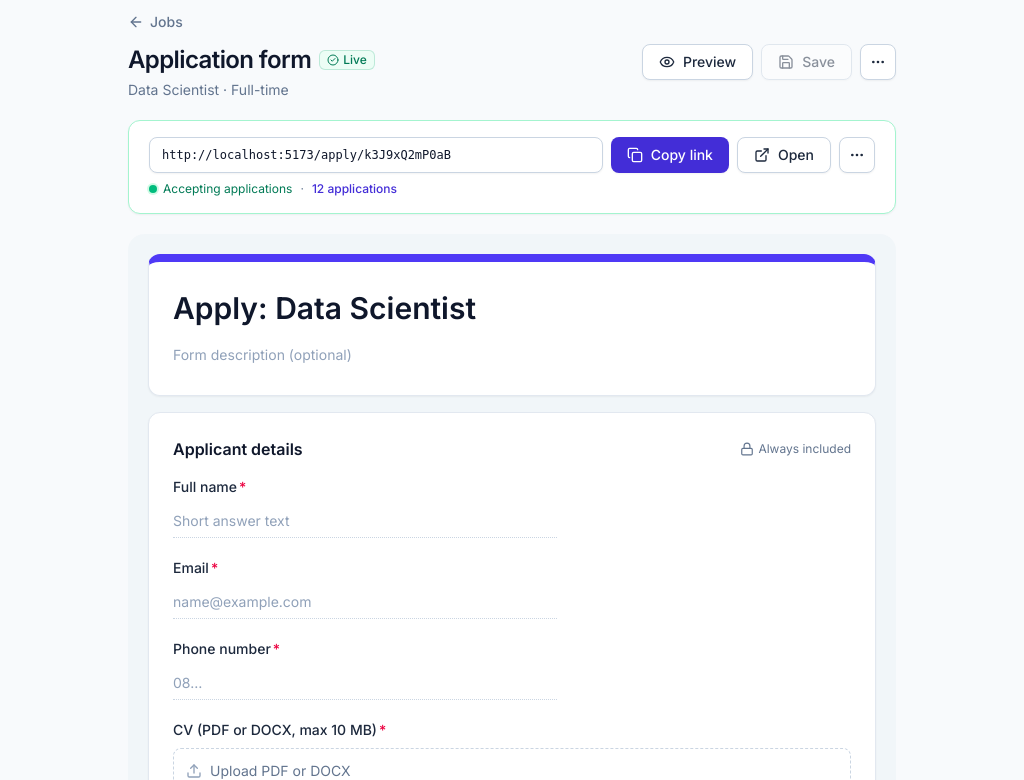
Test: FormBuilderPage › surfaces the backend's validation message
The image size is (1024, 780).
Step 1. Type "!" into the field named "Form title" → {"x": 512, "y": 309}, box left=173, top=286, right=851, bottom=332
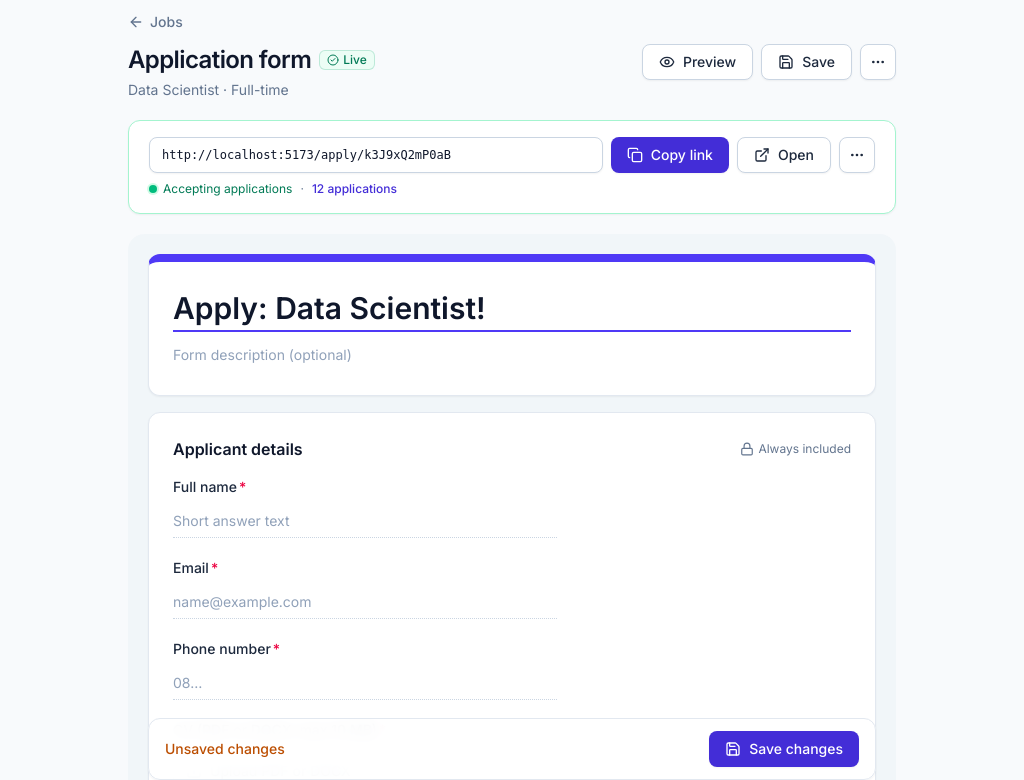
Step 2. Click the button "Save" → {"x": 807, "y": 62}, box left=761, top=44, right=852, bottom=80
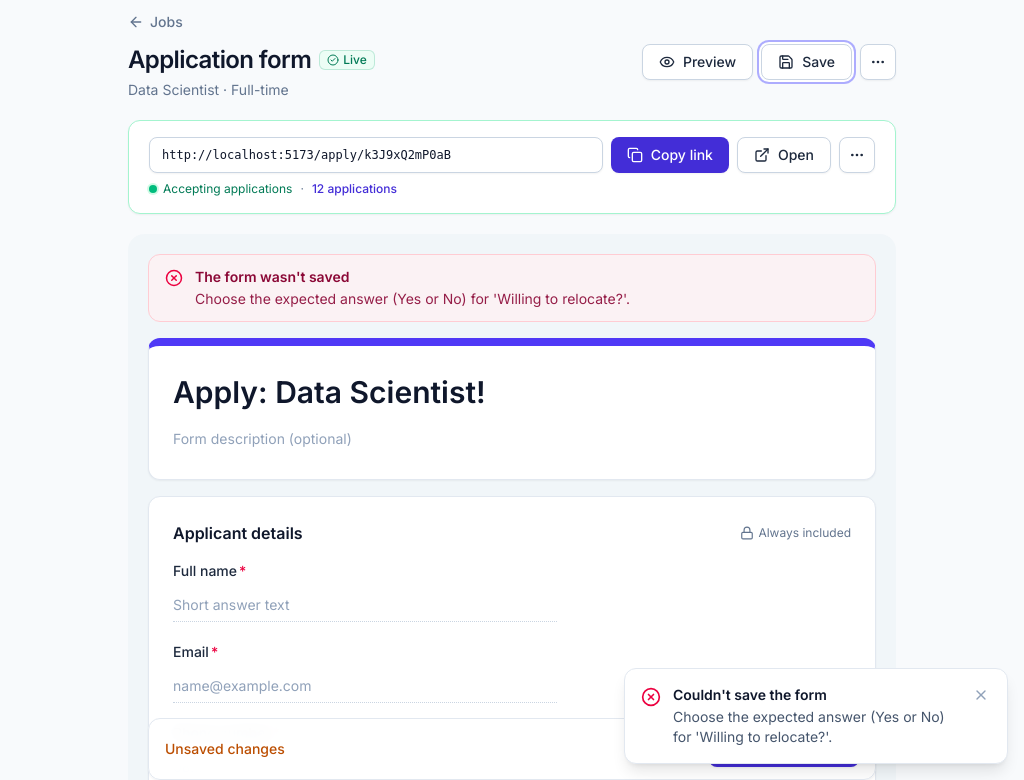
Now the text "The form wasn't saved" is shown, box left=195, top=268, right=349, bottom=285
Now the text "Choose the expected answer (Yes or No)" below "The form wasn't saved" is shown, box left=195, top=290, right=630, bottom=307
